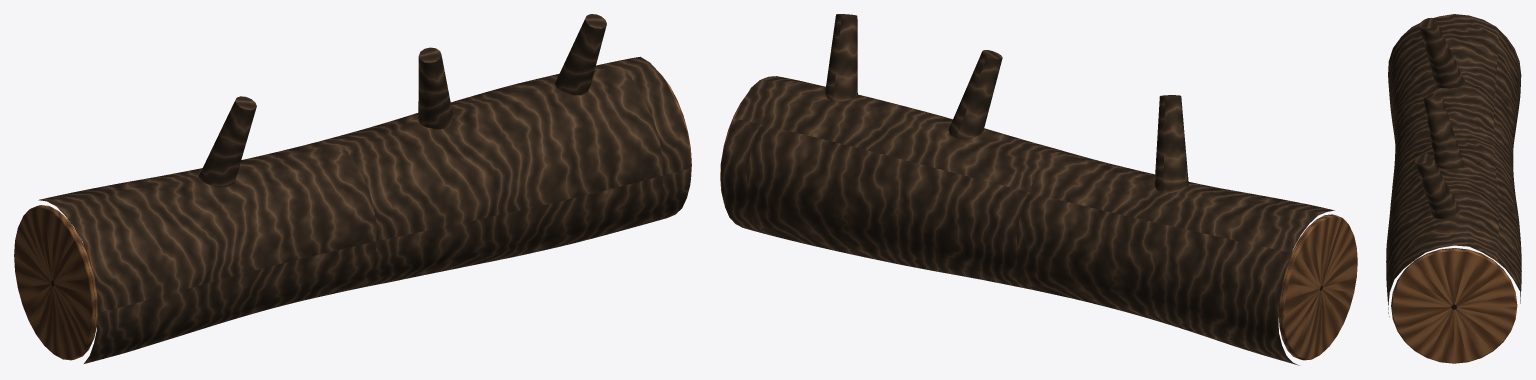
File: fallen_log.gltf
3 renders of one model, left to right at view 1: azimuth 30°, elevation 25°; view 2: azimuth 150°, elevation 25°; view 3: azimuth 270°, elevation 25°, orthographic. The views are drawn at different scales.
Visible parts, largest first — view 1: fallen_log; view 2: fallen_log; view 3: fallen_log.
Part boxes in pixels (x1,y1,x2,y2): fallen_log: (14, 14, 691, 363); fallen_log: (720, 14, 1357, 365); fallen_log: (1386, 14, 1521, 363).
Size of the model in its own units: 4.25 by 1.56 by 1.04.
2 materials, 2 textured.
